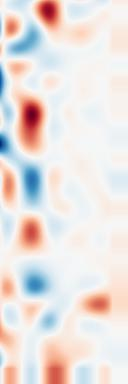filament: (12, 91, 52, 154)
